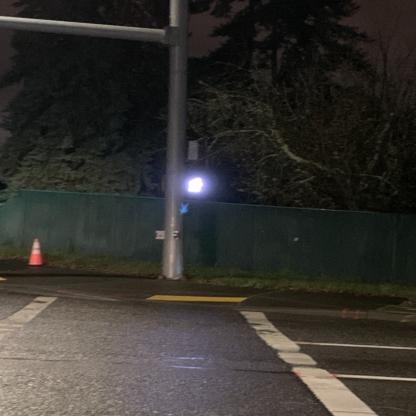Walk: (184, 175, 206, 194)
